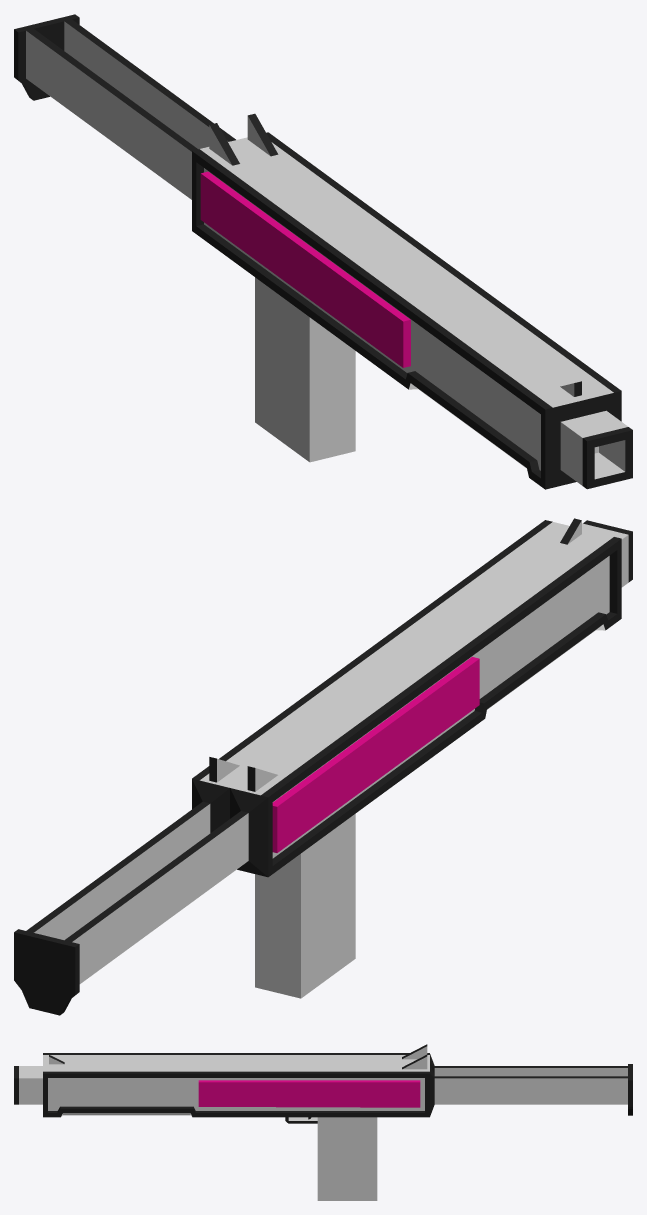
Rendered from gun.glb.
3 renders of one model, top to bottom at view 1: azimuth 30°, elevation 25°; view 2: azimuth 150°, elevation 25°; view 3: azimuth 270°, elevation 25°, orthographic. The views are drawn at different scales.
Visible parts, largest first — view 1: Cube, Cube.001; view 2: Cube, Cube.001; view 3: Cube, Cube.001.
Part boxes in pixels (x1=…): Cube: x1=14, y1=14, x2=632, y2=489; Cube.001: x1=200, y1=171, x2=410, y2=367; Cube: x1=14, y1=518, x2=632, y2=1015; Cube.001: x1=272, y1=657, x2=479, y2=852; Cube: x1=14, y1=1044, x2=632, y2=1200; Cube.001: x1=198, y1=1080, x2=420, y2=1107.
Size of the model in its own units: 1 by 3.3 by 12.8.
